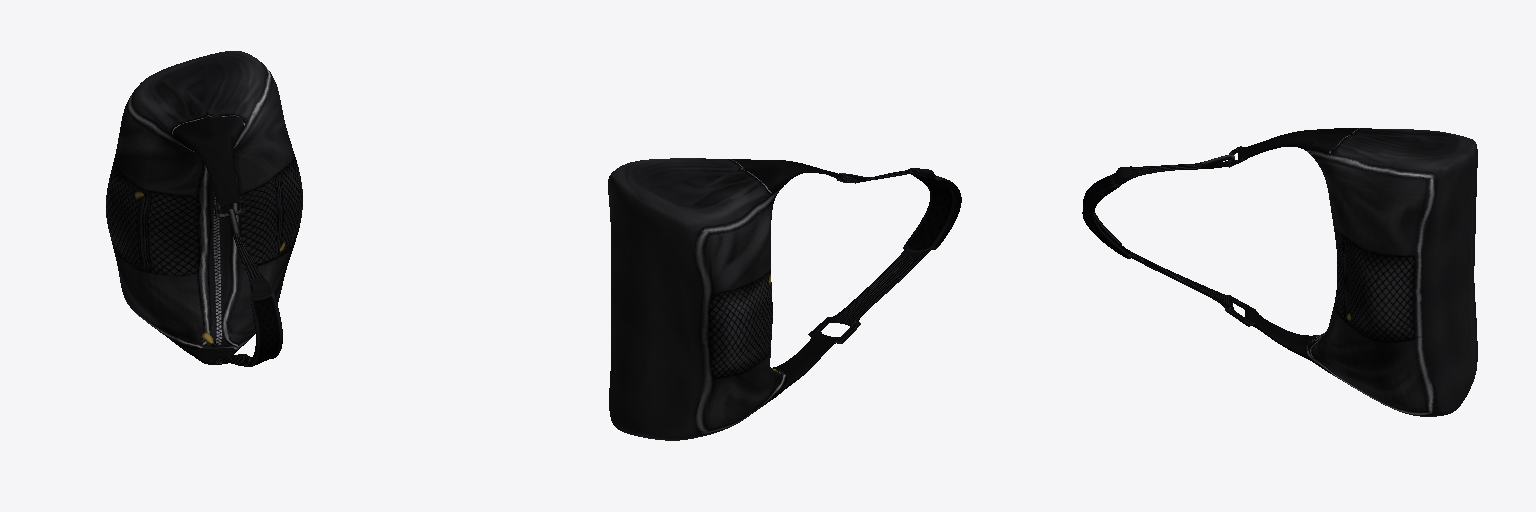
3 views of the same model, side by side, from view 1: azimuth 30°, elevation 25°; view 2: azimuth 150°, elevation 25°; view 3: azimuth 270°, elevation 25° (orthographic).
Parts seen in each view (by area): view 1: 10140_GymBag_v01; view 2: 10140_GymBag_v01; view 3: 10140_GymBag_v01.
Part boxes in pixels (x1,y1,x2,y2): 10140_GymBag_v01: (106,51,302,366); 10140_GymBag_v01: (608,158,961,440); 10140_GymBag_v01: (1082,128,1477,416).
Size of the model in its own units: 38.52 by 48.95 by 68.47.
Materials: 1 (1 with a texture image).